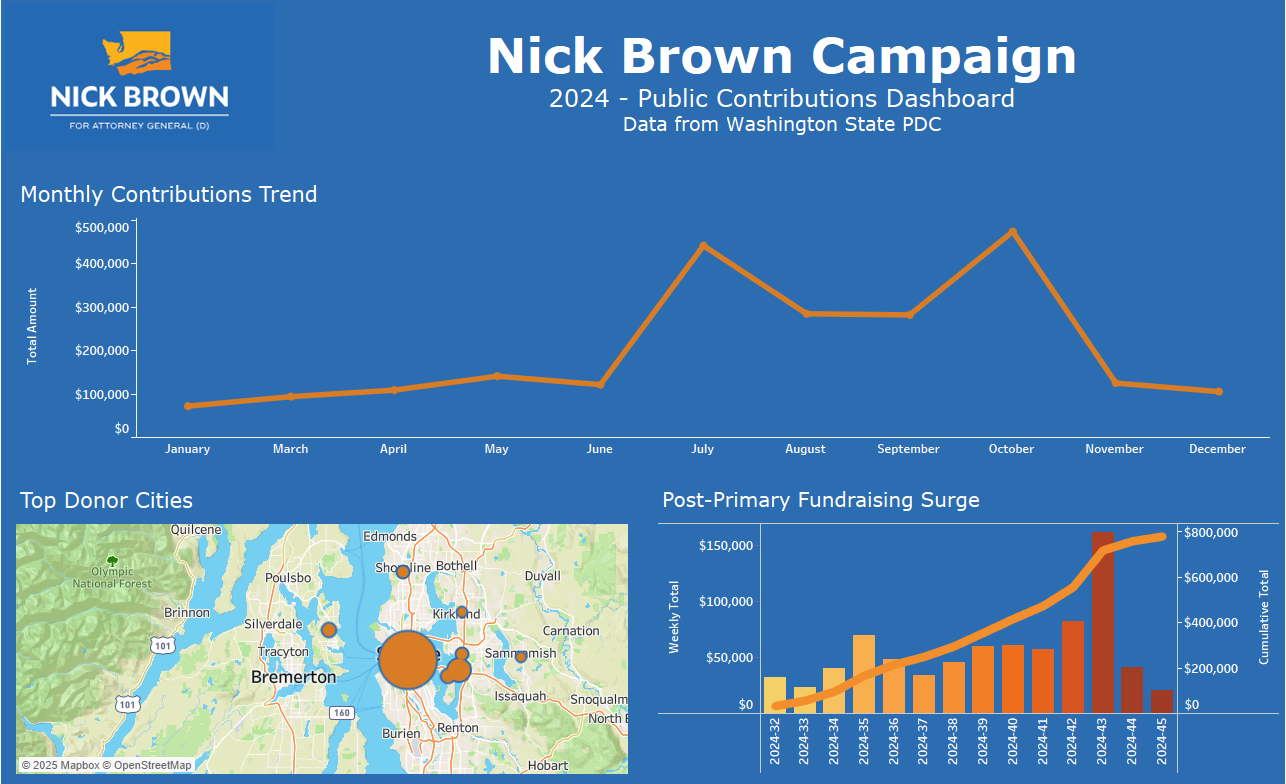

Layout of this report page (visuals, bound fields, positions):
{"tool":"tableau","page":{"name":"AG campaign dashboard","canvas":[1300,800],"ordinal":0},"visuals":[{"type":"image","param":"C:/Users/test123/Desktop/Screenshot 2025-04-10 101502.png","box":[8,8,317,162]},{"type":"text","box":[325,8,967,162]},{"type":"worksheet","title":"Sheet 1","mark":"Line","rows":["total_amount"],"cols":["Calculation_761671353212190720"],"box":[8,170,1284,311]},{"type":"worksheet","title":"Sheet 2","mark":"Automatic","box":[8,481,641.9,311]},{"type":"worksheet","title":"Sheet 4","mark":"Automatic","rows":["weekly_total","cumulative_total"],"cols":["week"],"box":[649.9,481,642.1,311]}]}

Visuals, with their boxes in screenshot pixels (x1, y1, x2, y2), scaled from the page's 1300x800 canvas onto the 1286x784 screenshot:
image: bbox=[8, 8, 322, 167]
text: bbox=[322, 8, 1278, 167]
"Sheet 1" worksheet (Line marks): bbox=[8, 167, 1278, 471]
"Sheet 2" worksheet: bbox=[8, 471, 643, 776]
"Sheet 4" worksheet: bbox=[643, 471, 1278, 776]
